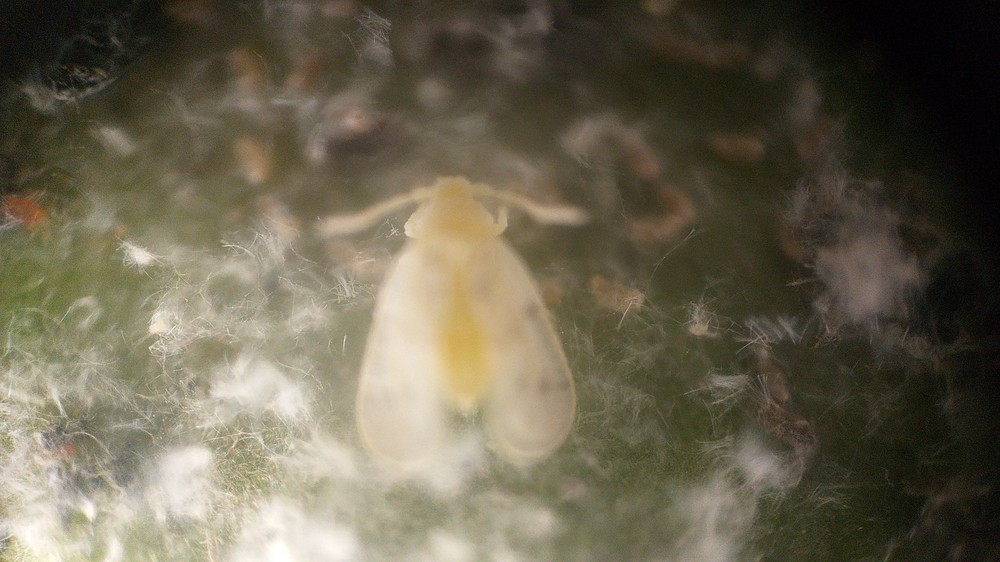Mosca Blanca: (311, 166, 618, 484)
